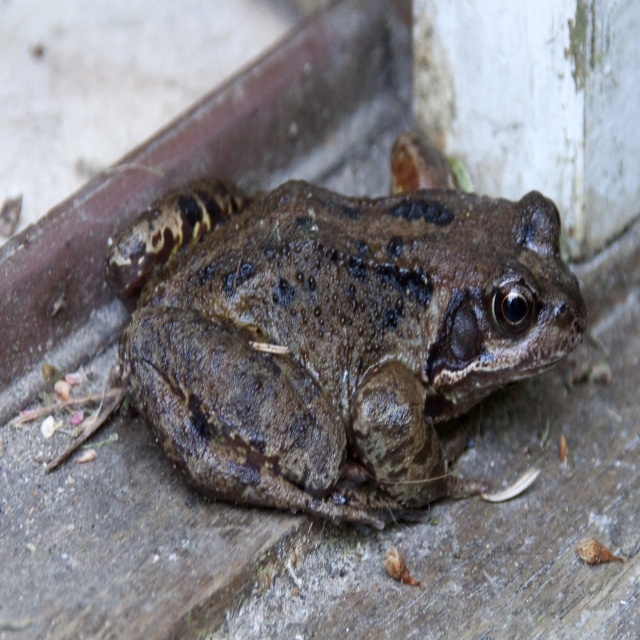Frog: (104, 178, 588, 532)
